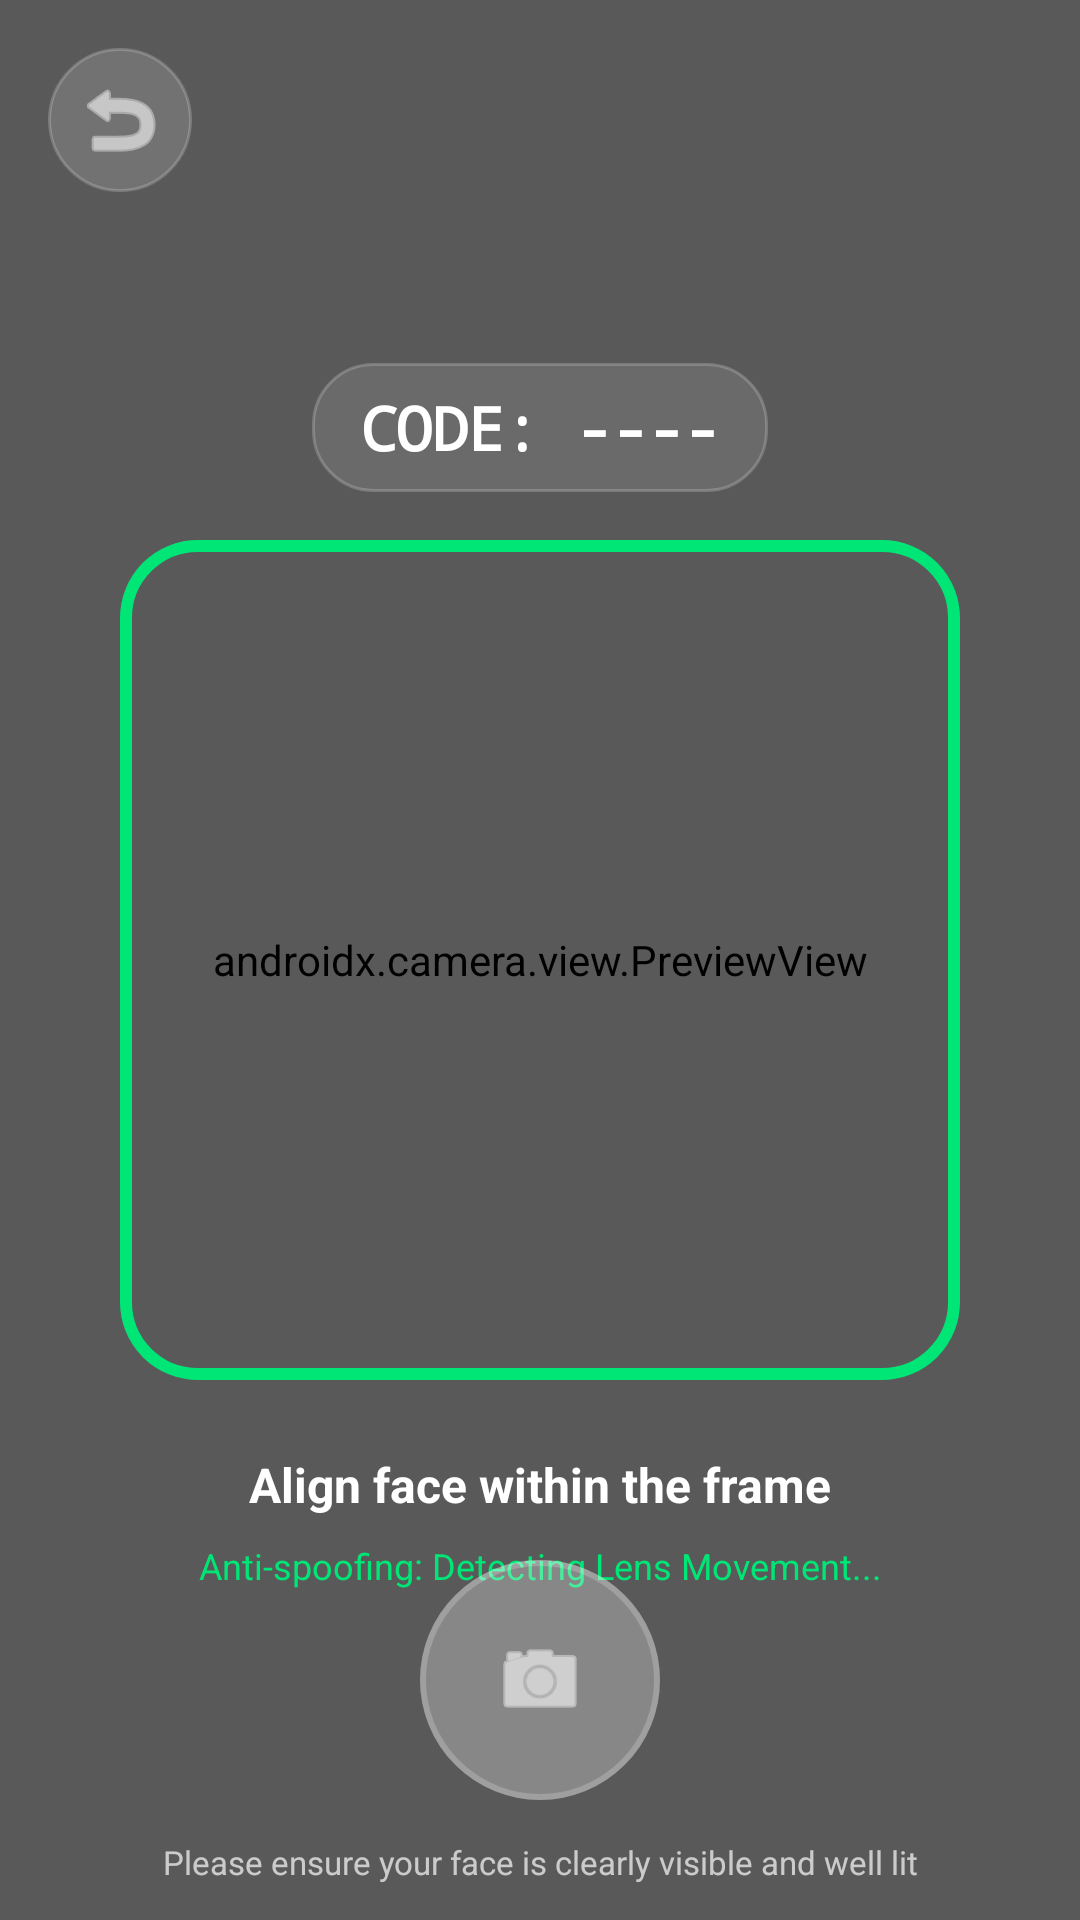

Where icons sit on this 1080×1920 app screen, as bbox(x1, y1, x2, y2):
revert: bbox(48, 48, 192, 192)
